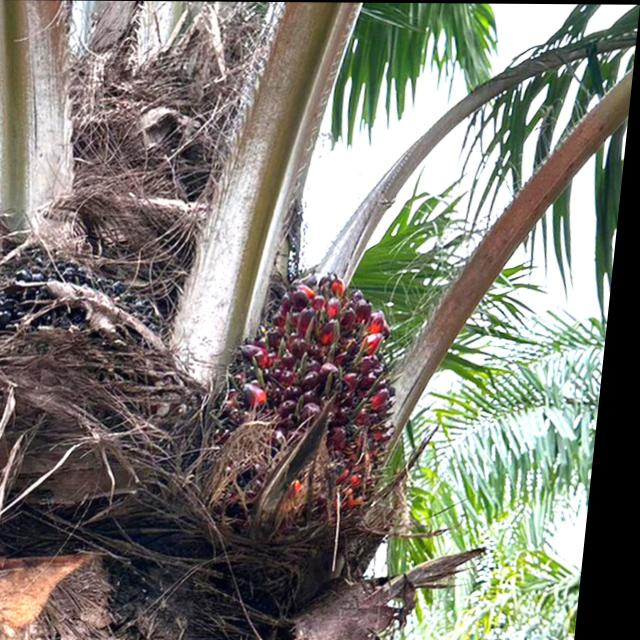ripe: (197, 257, 434, 542)
